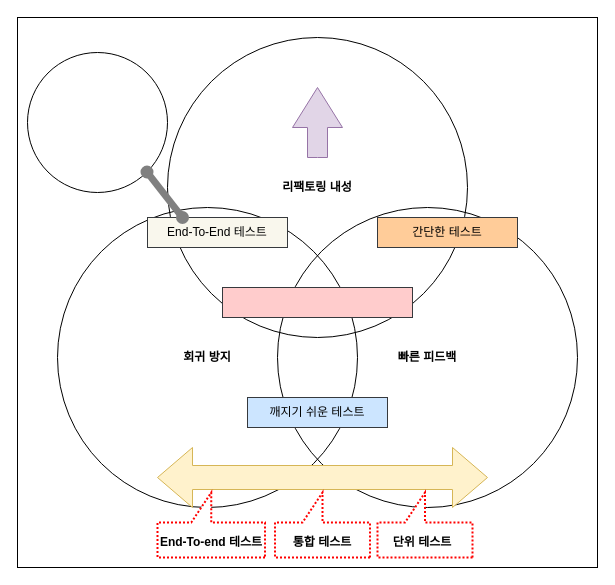
Some shapes in this 615 by 585 pixel diagram are drawn without their labels. The centre of each missing label's shape, as x and y in pixels:
실현 불가능한 이상적인 테스트: (317,302)
유지보수성: (97,122)
절충: (322,477)
최대화: (317,122)
